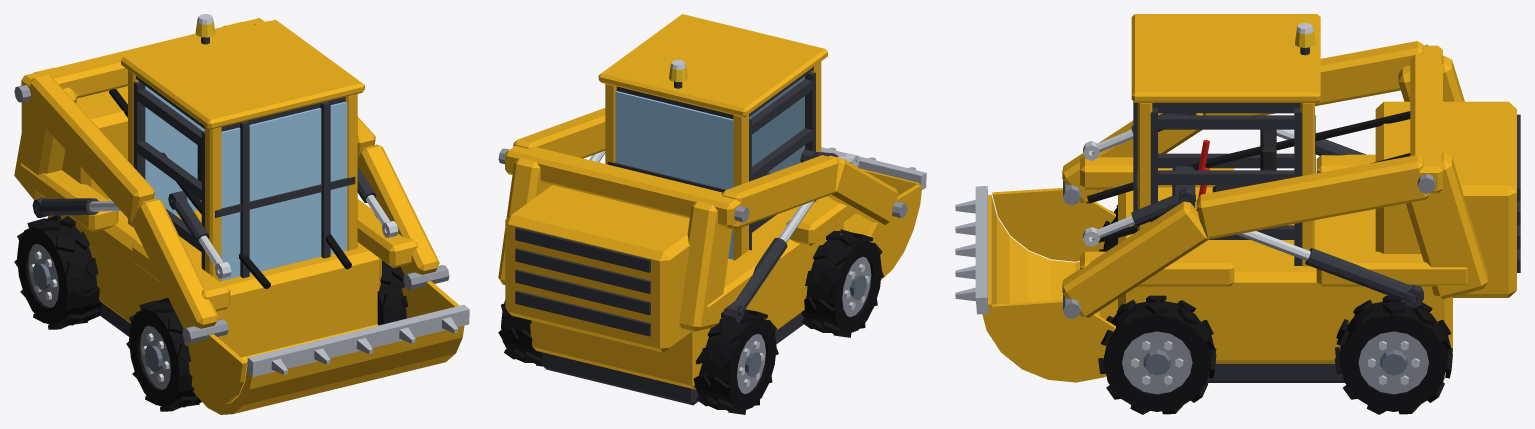
The model's file is SkidSteer.glb.
3 renders of one model, left to right at view 1: azimuth 30°, elevation 25°; view 2: azimuth 150°, elevation 25°; view 3: azimuth 270°, elevation 25°, orthographic. The views are drawn at different scales.
Visible parts, largest first — view 1: Body, LiftArmMesh, Bucket, WheelRR, WheelFR, WheelFL, TiltRamMesh, LiftRamMesh, TiltRamRod, ArmRMesh, Beacon; view 2: Body, LiftArmMesh, WheelFR, WheelRR, Bucket, WheelRL, LiftRamMesh, LiftRamRod, Beacon; view 3: Body, LiftArmMesh, Bucket, WheelRL, WheelFL, LiftRamMesh, ArmRMesh, TiltRamRod, TiltRamMesh, LiftRamRod, Beacon.
Part boxes in pixels (x1,y1,x2,y2): Body: (14, 19, 418, 357); LiftArmMesh: (14, 18, 449, 343); Bucket: (184, 281, 469, 414); WheelRR: (14, 215, 102, 329); WheelFR: (126, 297, 201, 411); WheelFL: (377, 260, 408, 325); TiltRamMesh: (168, 166, 376, 243); LiftRamMesh: (32, 197, 98, 217); TiltRamRod: (199, 195, 398, 278); ArmRMesh: (109, 88, 270, 288); Beacon: (195, 14, 215, 44); Body: (498, 14, 856, 405); LiftArmMesh: (498, 108, 907, 229); WheelFR: (801, 229, 884, 337); WheelRR: (693, 309, 778, 414); Bucket: (821, 147, 926, 279); WheelRL: (498, 300, 543, 366); LiftRamMesh: (723, 237, 787, 322); LiftRamRod: (589, 151, 814, 242); Beacon: (669, 60, 687, 88); Body: (1080, 14, 1520, 382); LiftArmMesh: (1062, 41, 1442, 319); Bucket: (955, 186, 1117, 382); WheelRL: (1334, 295, 1452, 414); WheelFL: (1098, 295, 1216, 414); LiftRamMesh: (1305, 139, 1423, 307); ArmRMesh: (1087, 111, 1410, 203); TiltRamRod: (1083, 130, 1134, 246); TiltRamMesh: (1131, 113, 1195, 226); LiftRamRod: (1237, 129, 1310, 260); Beacon: (1295, 23, 1315, 55).
Bounding box in the file's own units: 1.92 × 2.21 × 3.44.
